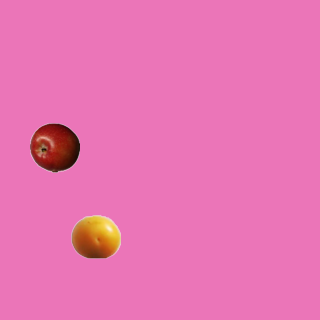Apple Braeburn: (29, 122, 79, 172)
Cherry Wax Yellow: (70, 211, 120, 261)
